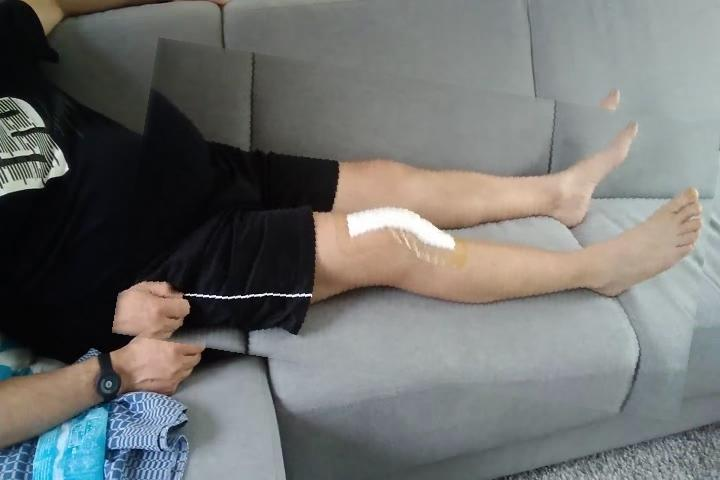lower_body: (123, 60, 717, 402)
